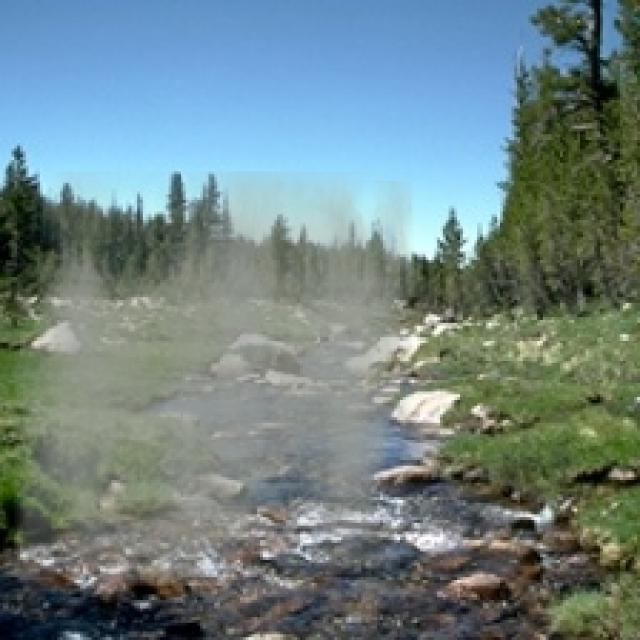smoke: (14, 171, 414, 586)
